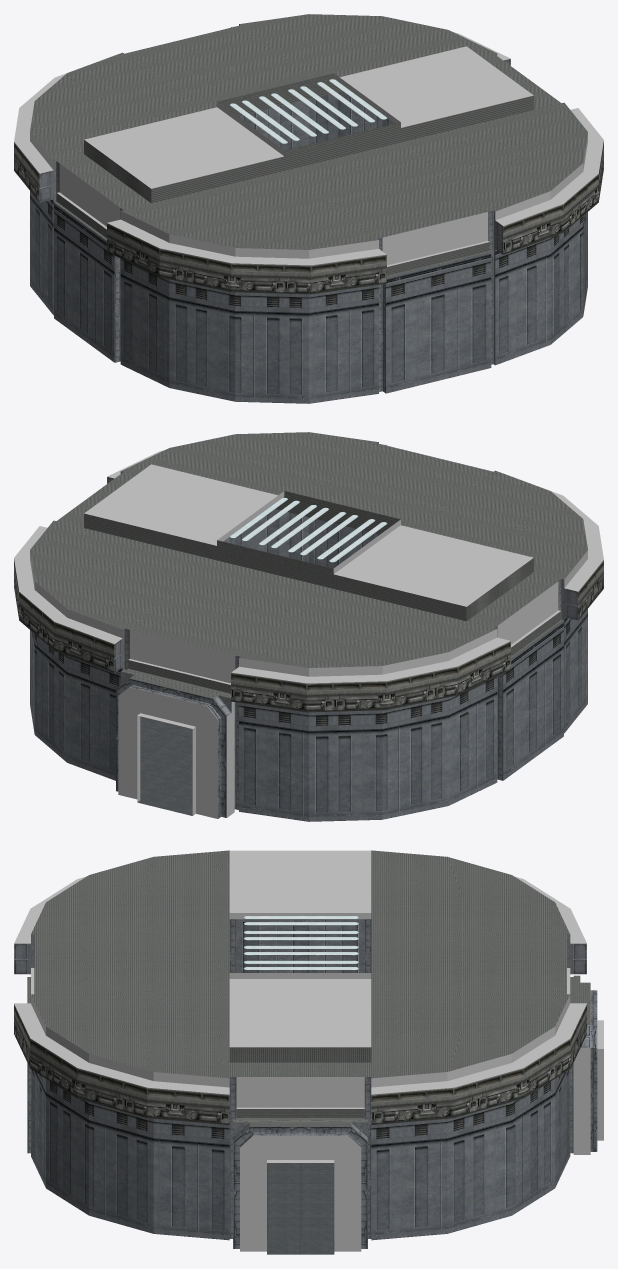
The model's file is poi_all_impl_bunker_warren_s01_r52_smallroom52_mesh_r52.fbx.
The picture shows the model from 3 angles, top to bottom: view 1: azimuth 30°, elevation 25°; view 2: azimuth 150°, elevation 25°; view 3: azimuth 270°, elevation 25°; orthographic projection. The views are drawn at different scales.
Visible parts, largest first — view 1: mesh_node; view 2: mesh_node; view 3: mesh_node.
Boxes of the visible parts, x1,y1,x2,y2 form: mesh_node: [14, 14, 603, 403]; mesh_node: [14, 432, 603, 821]; mesh_node: [14, 850, 603, 1254].
Size of the model in its own units: 17.5 by 6 by 17.5.
